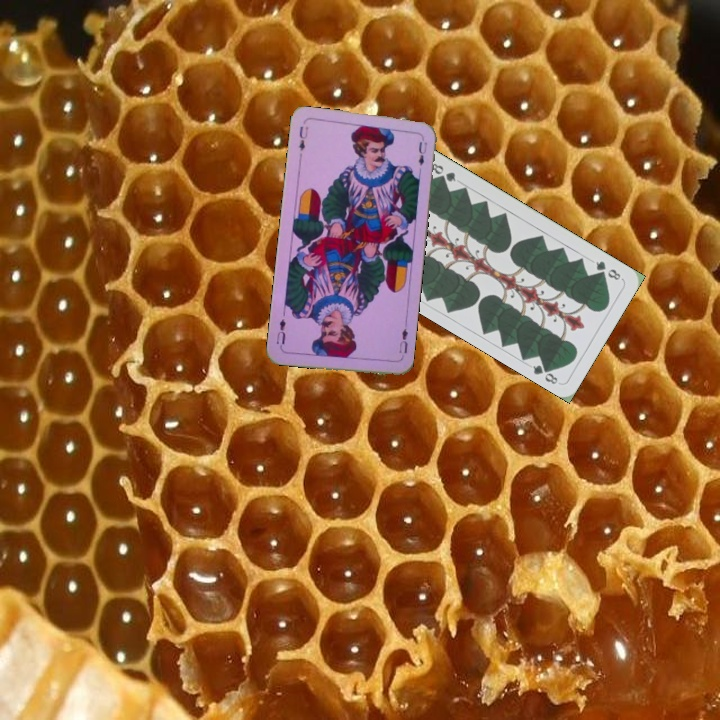EU: (395, 321, 410, 362), (295, 122, 311, 153)
G8: (591, 257, 623, 283)
